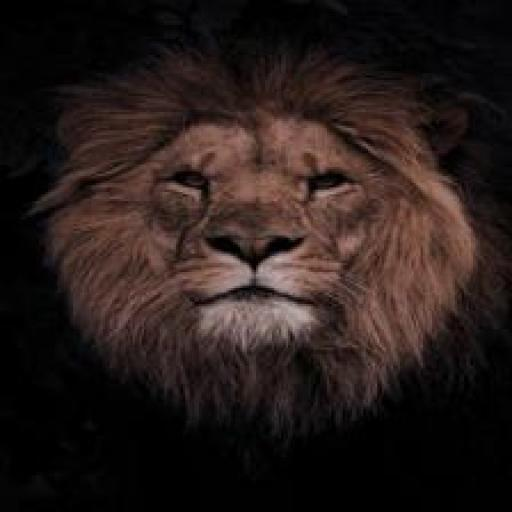lion: (44, 71, 484, 407)
